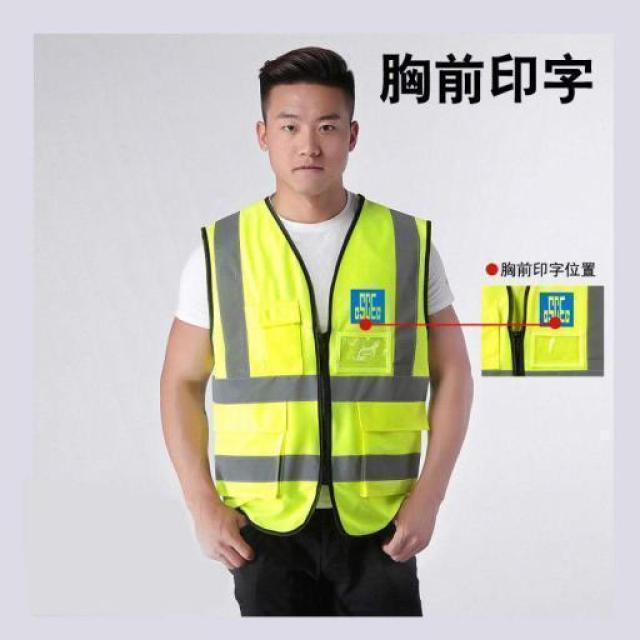vest: (194, 193, 432, 533)
